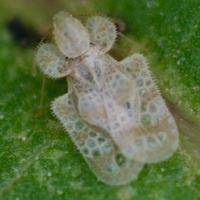insect: (36, 11, 178, 184)
